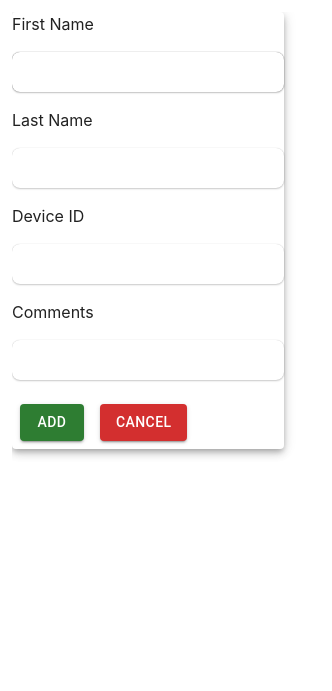
Test: Add component › should return validation error when first name is not provided
This screenshot has width=332, height=691.
Click the button labelled "Add" at (52, 422), box 20,404 -> 84,440
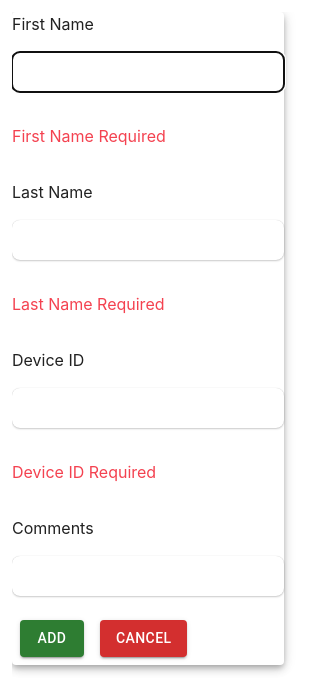
Now the text "First Name Required" is shown, box 12,126 -> 166,146
